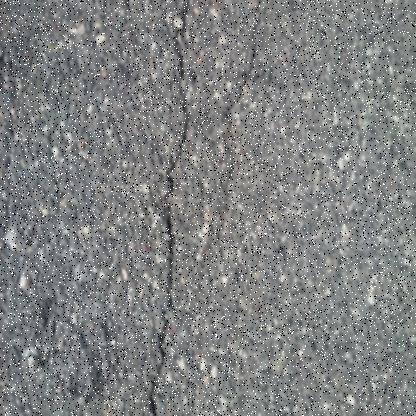Cracks: (147, 0, 198, 416)
